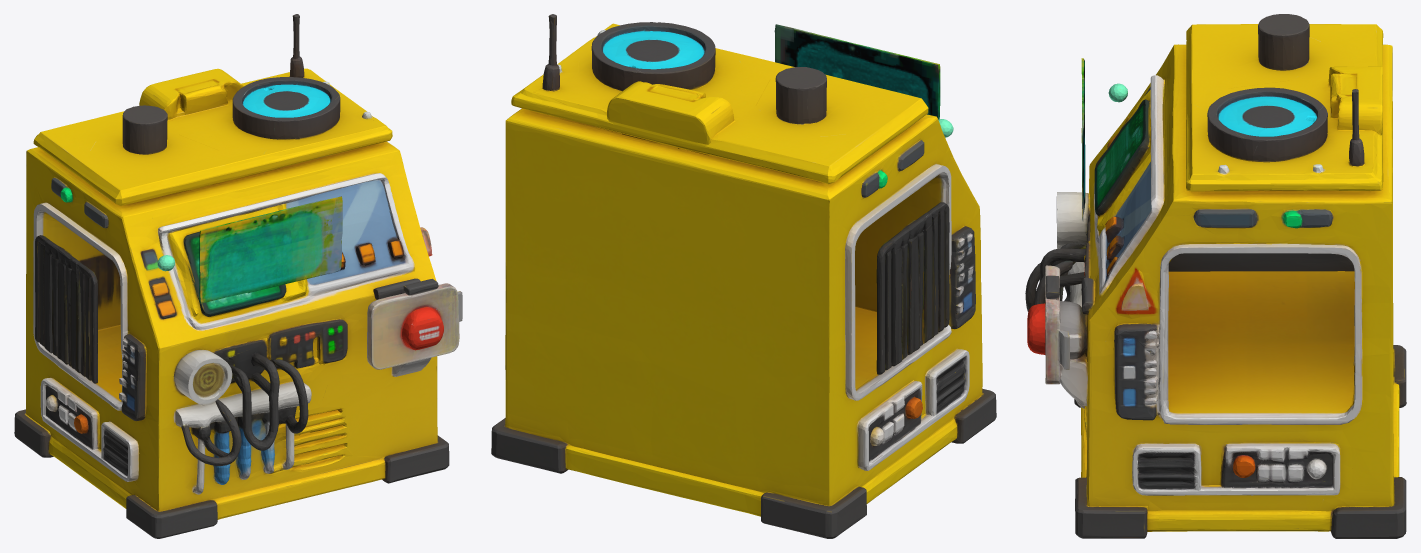
3 renders of one model, left to right at view 1: azimuth 30°, elevation 25°; view 2: azimuth 150°, elevation 25°; view 3: azimuth 270°, elevation 25°, orthographic. The views are drawn at different scales.
Parts seen in each view (by area): view 1: world; view 2: world; view 3: world.
Boxes of the visible parts, box(x1,y1,x2,y2) form: world: box(14, 14, 462, 538); world: box(491, 14, 996, 538); world: box(1025, 14, 1406, 538).
Size of the model in its own units: 0.8785 by 1 by 0.8018.
1 material, 1 textured.
